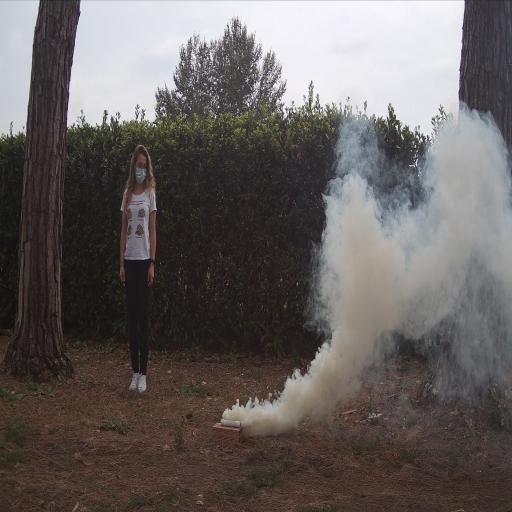leakage: (211, 85, 512, 503)
